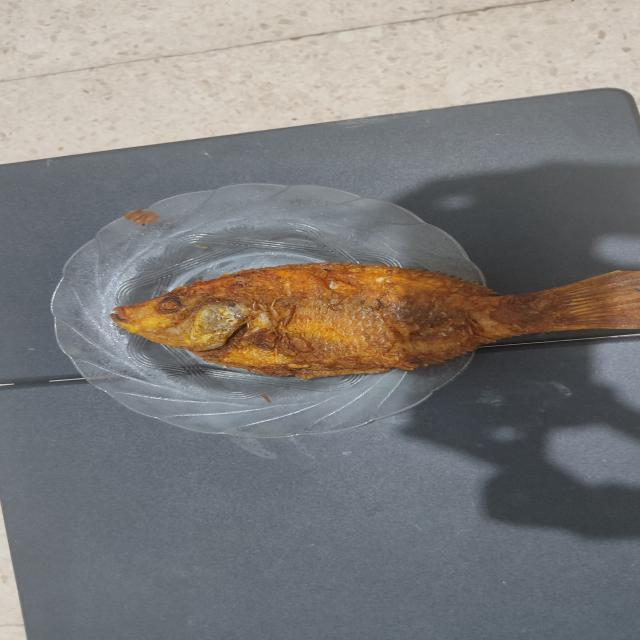ikan_mujair: (110, 263, 640, 379)
